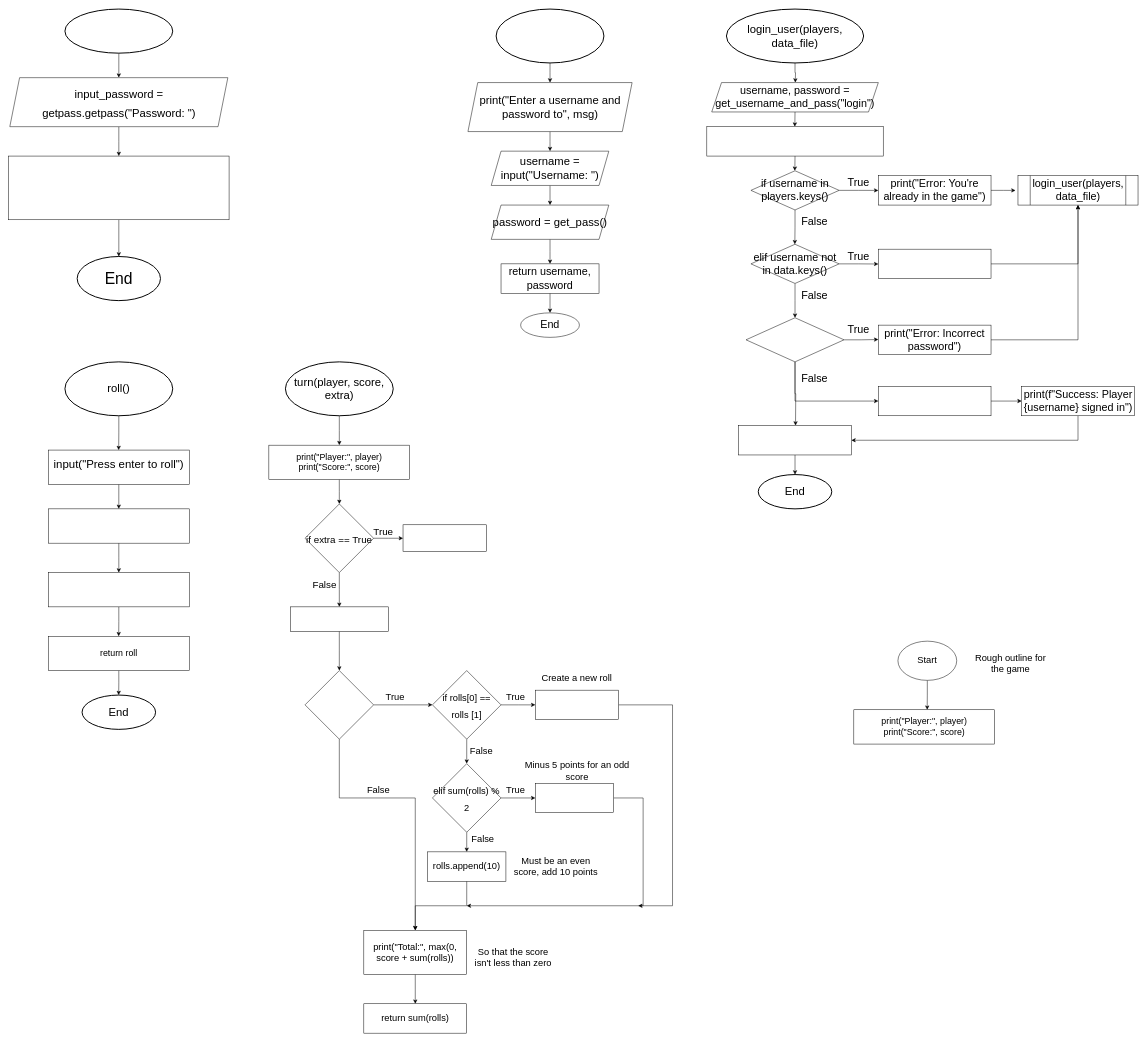
Image size: 1147x1042. Some labels were removed from this diagram. Each missing label, with the centre of its shape:
data = read_data(data_file): point (794, 141)
elif data[username]["password"] != password: point (795, 339)
get_pass(): point (118, 30)
get_username_a nd_pass(msg): point (549, 35)
if extra == False: point (339, 704)
players[username] = 0: point (934, 401)
print("Error: Username not found"): point (934, 264)
print("You rolled a", roll): point (118, 589)
return hashlib.sha384(bytes(input_password, "utf8")).hexdigest(): point (118, 188)
return players: point (794, 440)
roll = random.randint(1, 6): point (118, 525)
rolls = [roll(), roll()]: point (339, 618)
rolls = [roll()]: point (444, 538)
rolls.append(-5): point (574, 798)
rolls.append(roll()): point (577, 705)
